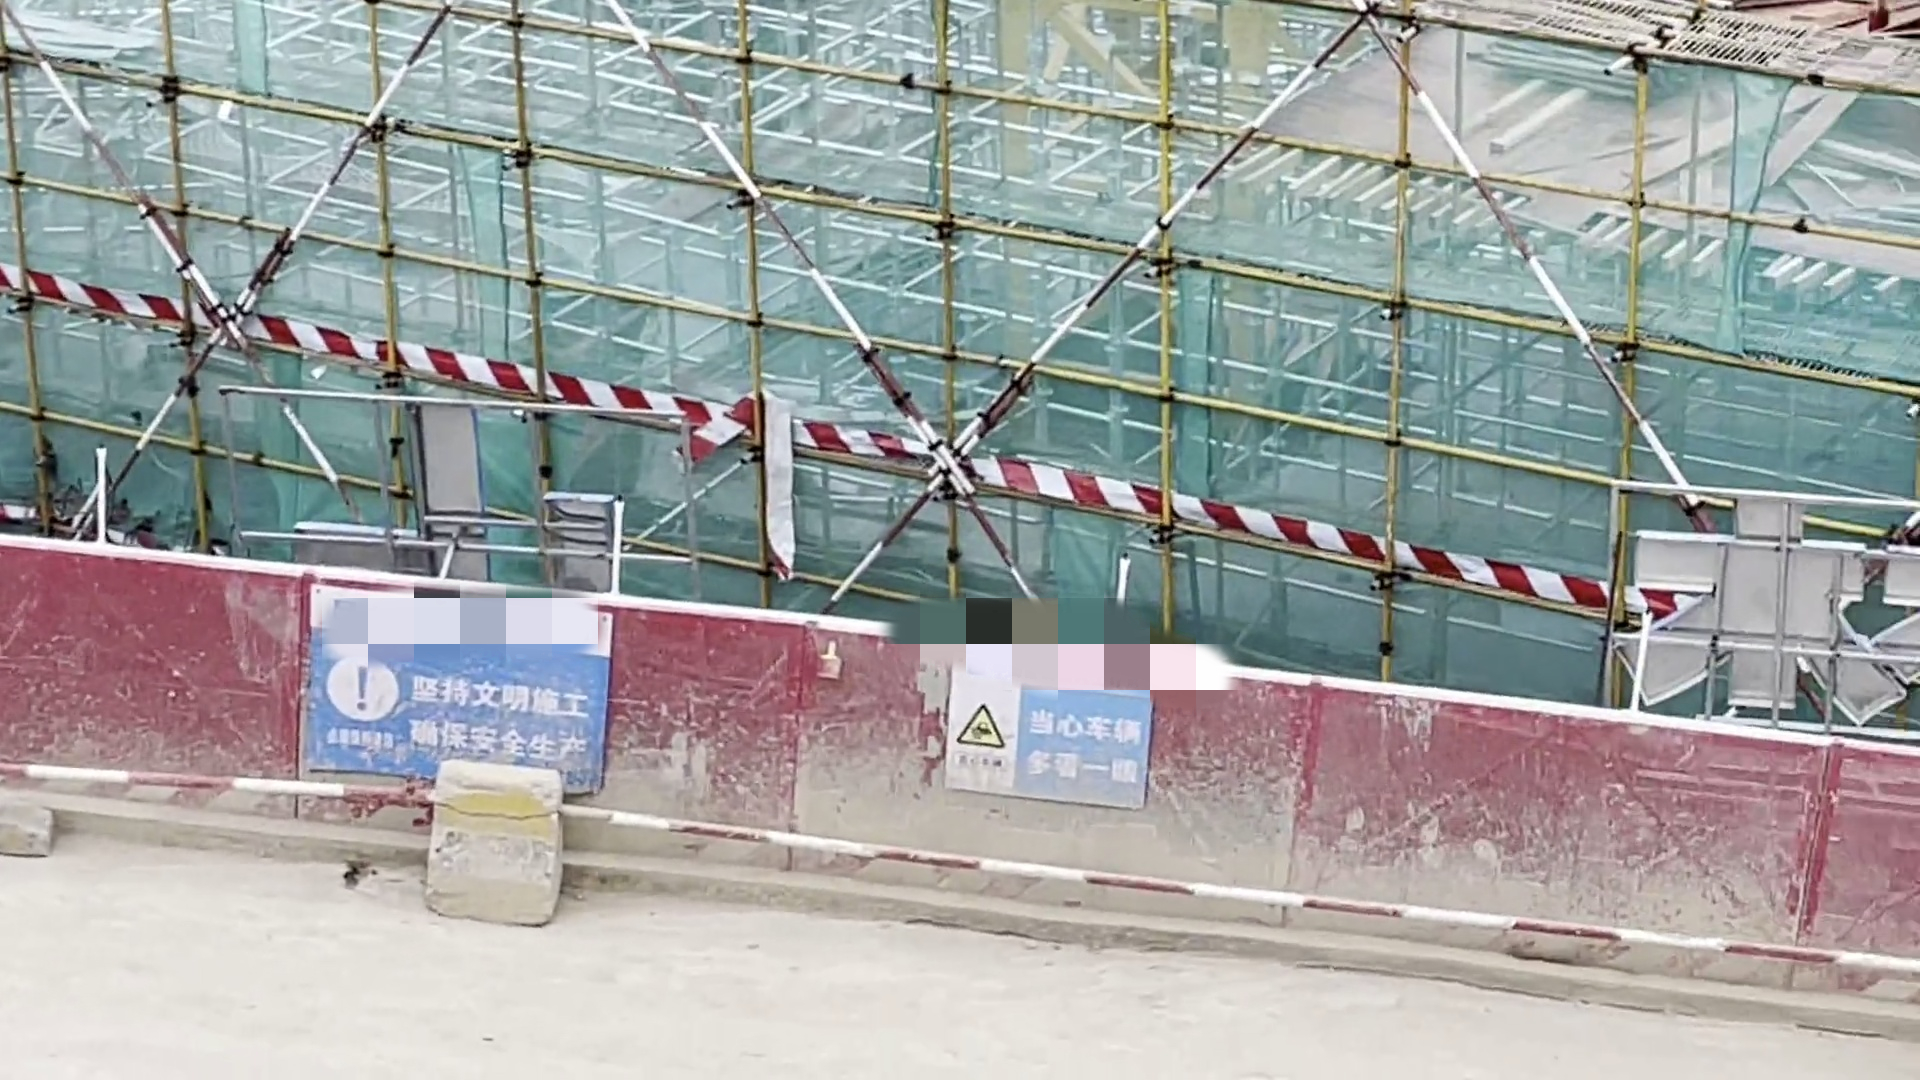fence: (1, 491, 1807, 1007)
slogan: (320, 616, 617, 764), (949, 666, 1154, 810)
